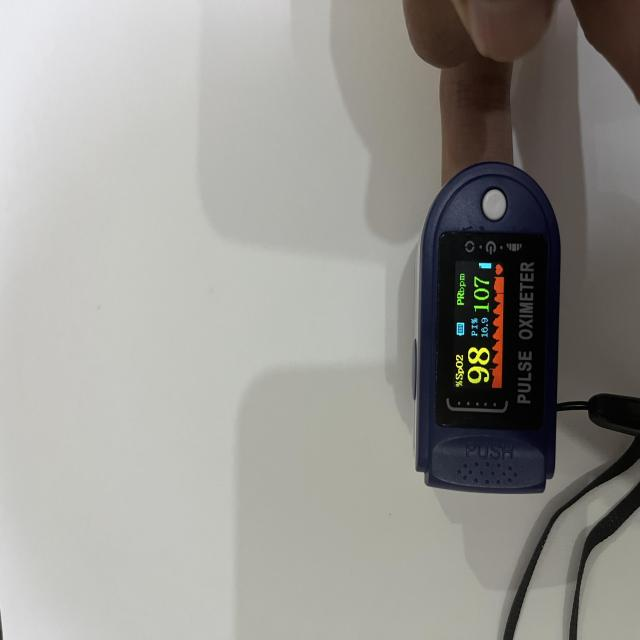spo2: (413, 160, 562, 497)
